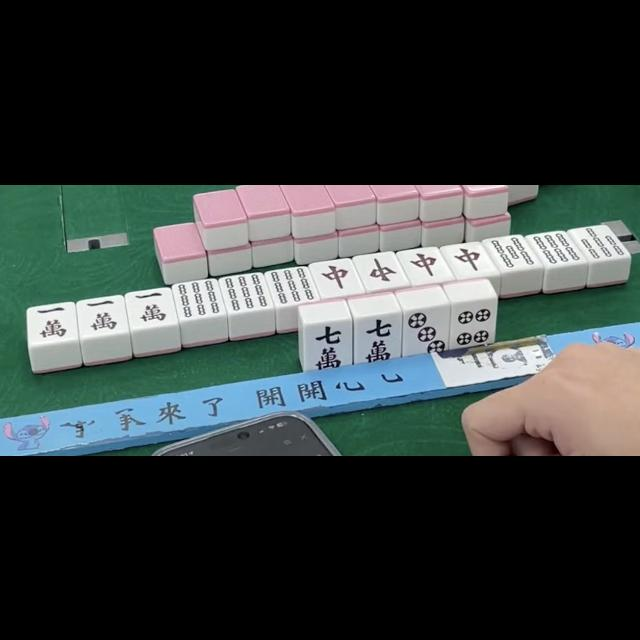b5: (492, 236, 532, 268)
b6: (534, 232, 576, 264)
b7: (580, 225, 622, 259)
b9: (176, 279, 222, 317), (224, 273, 268, 311), (270, 267, 314, 303)
c1: (129, 288, 173, 326), (80, 296, 124, 334), (30, 303, 74, 341)
c7: (304, 322, 352, 370), (356, 316, 400, 360)
d3: (402, 308, 448, 352)
d4: (450, 302, 496, 346)
dr: (316, 260, 358, 294), (404, 247, 446, 281), (361, 253, 402, 287), (448, 242, 488, 276)
